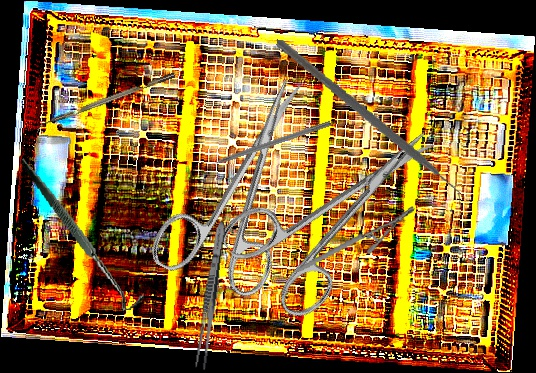Chopper: (256, 39, 481, 213), (33, 72, 179, 135)
Dressing Forceps: (193, 218, 229, 372)
Hook Surgical: (20, 143, 146, 323), (199, 118, 332, 171)
Iris Scissors: (215, 93, 469, 330), (145, 57, 350, 311)
Needle Holder: (288, 205, 423, 273)
